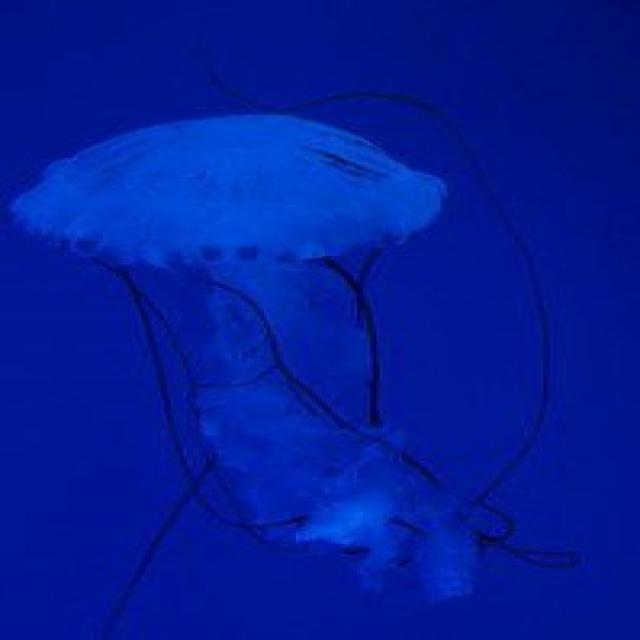Jellyfish: (15, 92, 568, 613)
